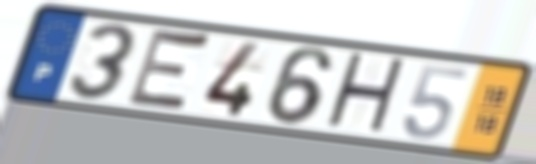3: (65, 22, 141, 103)
4: (199, 39, 264, 119)
5: (399, 62, 471, 142)
6: (261, 44, 337, 129)
E: (122, 24, 216, 118)
H: (320, 49, 410, 140)
